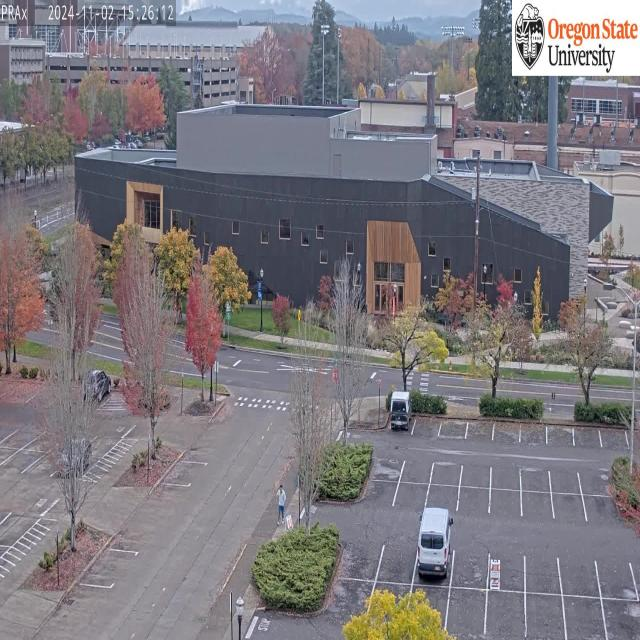available: (485, 585, 522, 640), (408, 586, 448, 636), (485, 545, 528, 590), (448, 584, 488, 631), (553, 564, 602, 602), (565, 598, 610, 636), (523, 595, 565, 635), (332, 579, 369, 623), (376, 582, 404, 638), (515, 560, 566, 590), (377, 545, 414, 586), (600, 598, 640, 634), (595, 568, 636, 602), (339, 542, 379, 576), (550, 493, 592, 523), (516, 492, 554, 524), (454, 487, 493, 516), (448, 558, 491, 582), (582, 494, 614, 526), (486, 492, 522, 520), (398, 458, 435, 484), (430, 462, 462, 488), (488, 468, 522, 491), (458, 466, 493, 488), (551, 472, 584, 495), (423, 486, 458, 507), (392, 484, 427, 504), (519, 472, 554, 492), (571, 429, 605, 449), (370, 478, 396, 504), (372, 458, 404, 479), (600, 429, 628, 451), (544, 428, 575, 447), (580, 476, 610, 495), (519, 427, 549, 446), (464, 424, 495, 442), (493, 425, 521, 442), (438, 424, 466, 438), (414, 422, 439, 437)
occupied: (414, 508, 458, 572), (388, 395, 409, 429)
